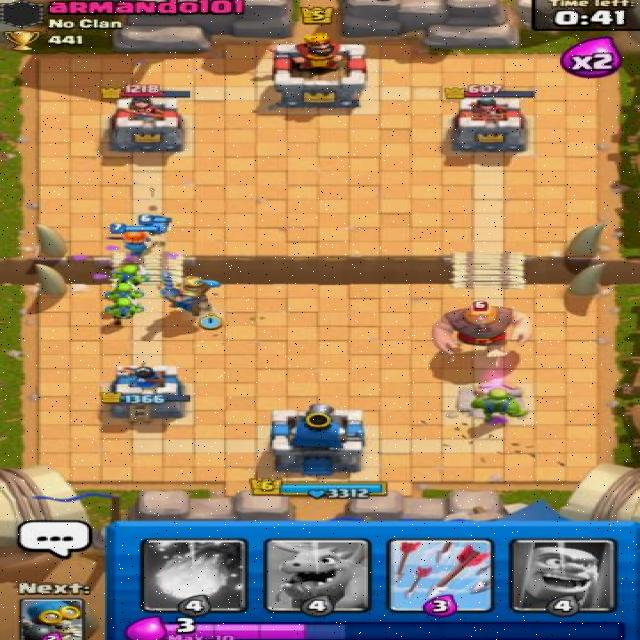Enemy-Giant: (429, 298, 535, 359)
Player-Bomber: (134, 212, 182, 242)
Player-Brawler: (468, 386, 536, 425)
Player-Goblin: (94, 292, 147, 329), (96, 274, 148, 307), (104, 262, 154, 290)
Player-Prince: (155, 267, 222, 322)
Player-Valkyrie: (105, 220, 164, 263)
